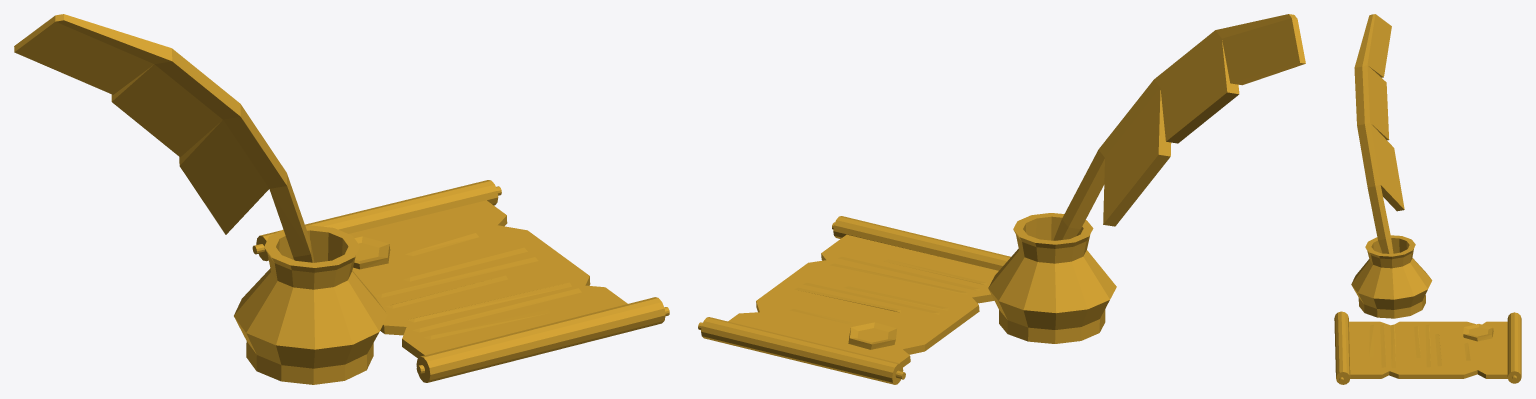
The model's file is literature.glb.
3 views of the same model, side by side, from view 1: azimuth 30°, elevation 25°; view 2: azimuth 150°, elevation 25°; view 3: azimuth 270°, elevation 25° (orthographic). The views are drawn at different scales.
Parts seen in each view (by area): view 1: literature__orient; view 2: literature__orient; view 3: literature__orient.
Part boxes in pixels (x1,y1,x2,y2): literature__orient: [14, 14, 669, 384]; literature__orient: [698, 14, 1305, 384]; literature__orient: [1334, 14, 1521, 384].
Bounding box in the file's own units: 1 × 0.6697 × 0.5048.
